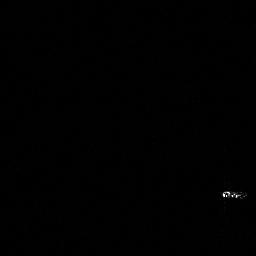ship: (220, 188, 247, 202)
